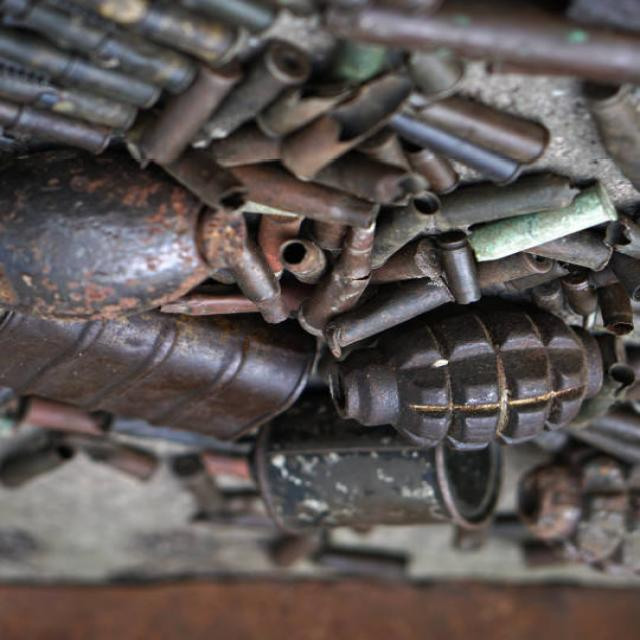grenade: (324, 300, 615, 456)
